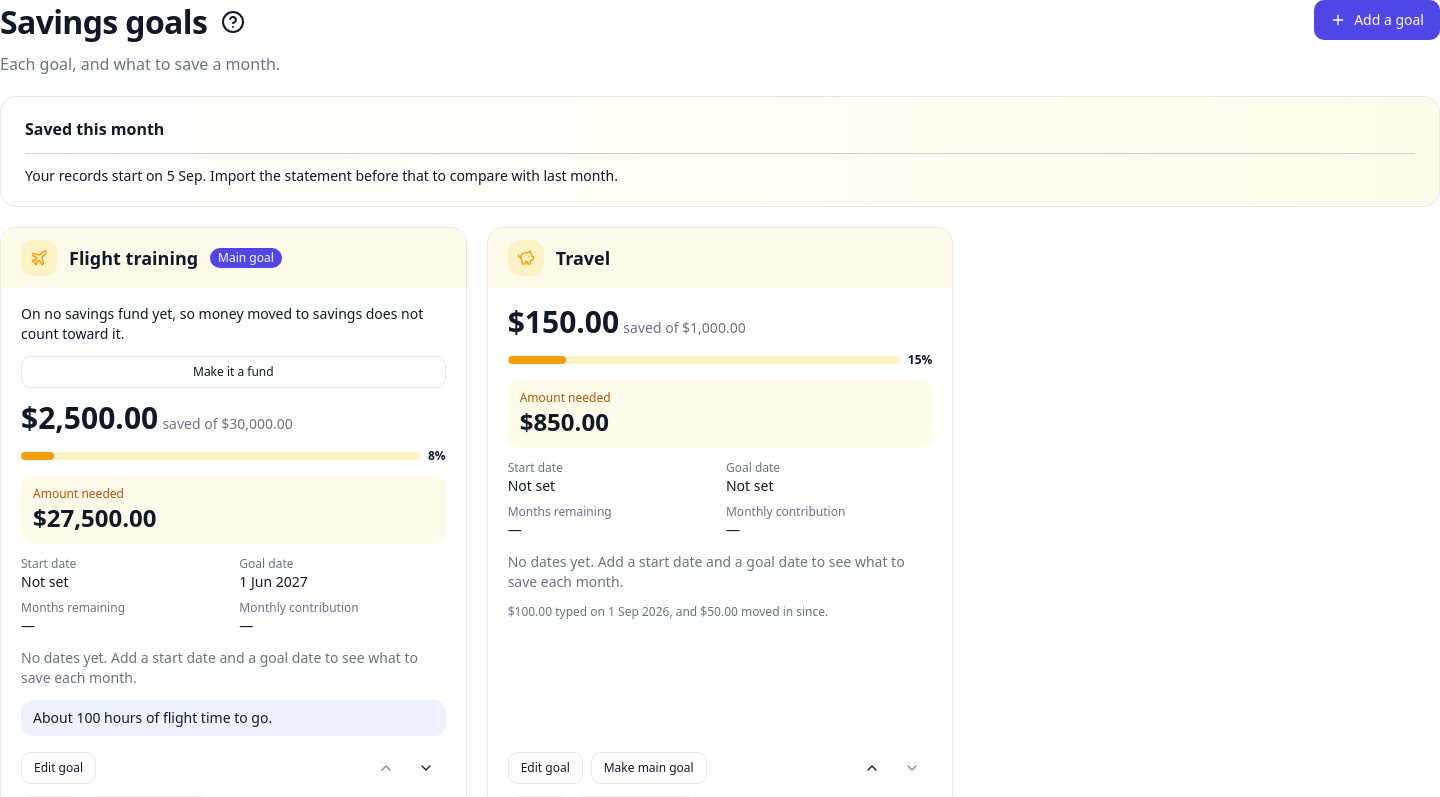
Test: SavingsScreen, setting and linking goals › refuses an amount it cannot read, and says why the database refused one
Click the button "Edit goal" below "$100.00" at (545, 768), box x1=508 y1=752 x2=583 y2=784
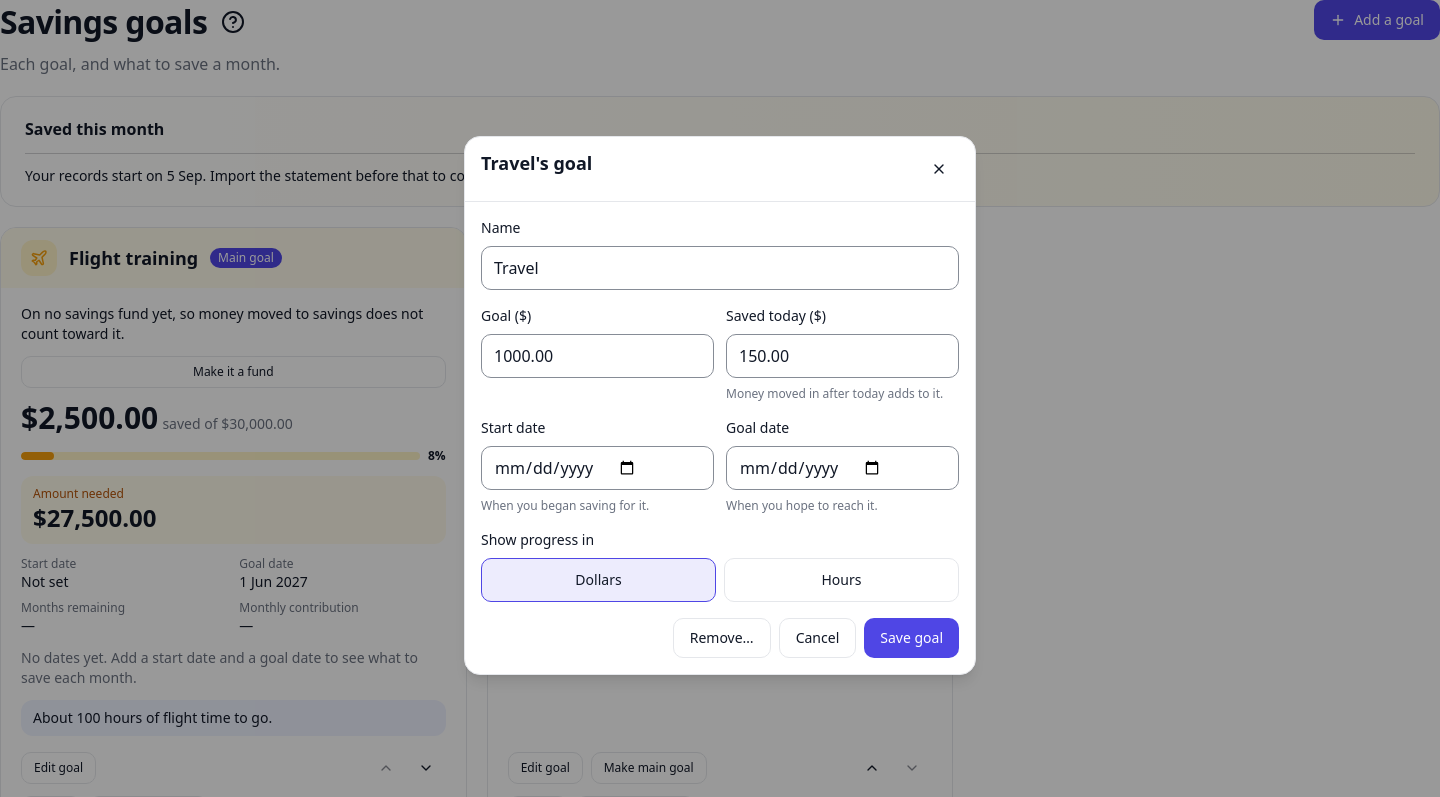
Replace the text in the field labelled "Goal ($)" with "0" at (598, 356), box x1=481 y1=334 x2=714 y2=378
Click the button "Save goal" at (912, 638), box x1=864 y1=618 x2=959 y2=658
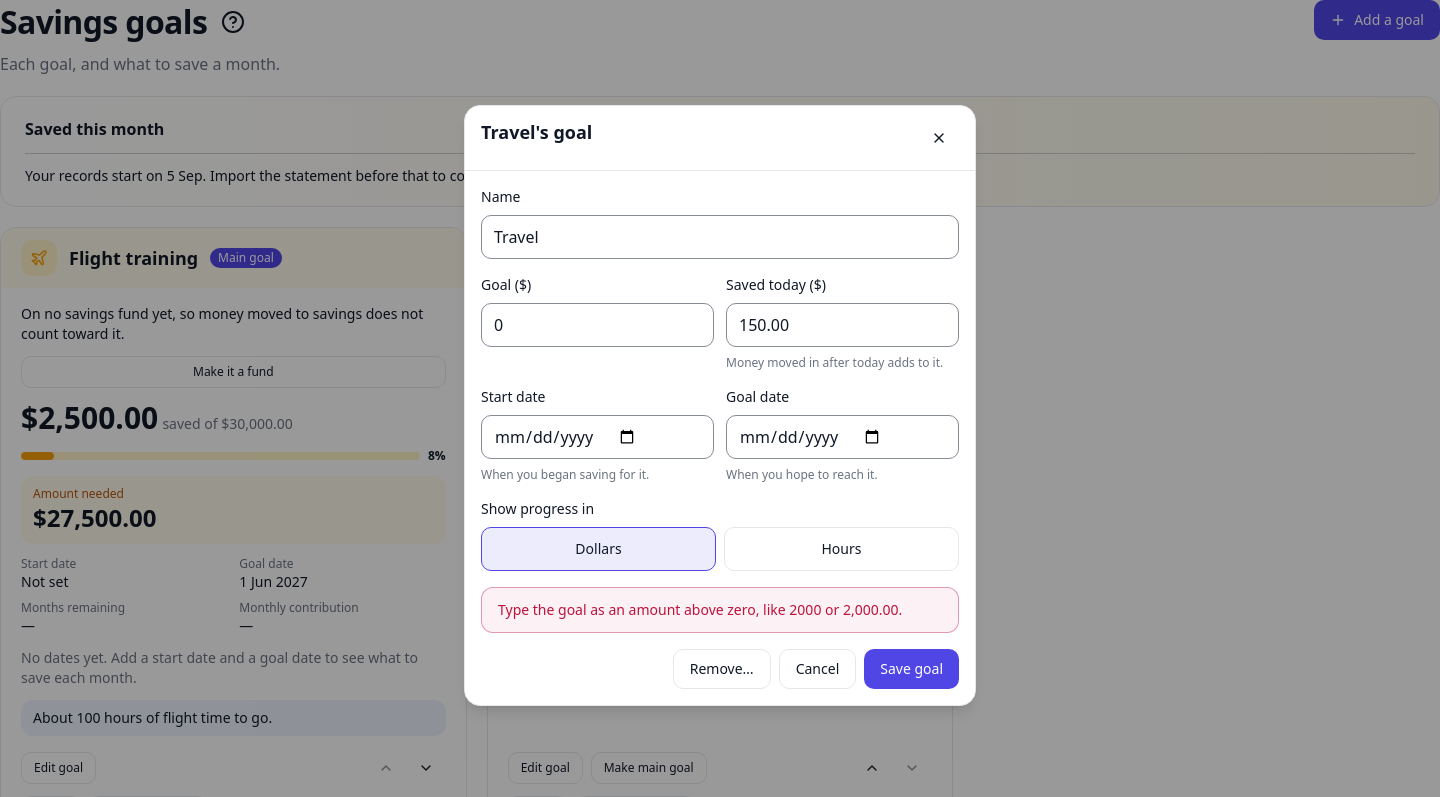
Expected: the text "Type the goal as an amount above zero, like 2000 or 2,000.00." is shown, x1=498 y1=600 x2=942 y2=620
Replace the text in the field labelled "Goal ($)" with "900" at (598, 324), box x1=481 y1=302 x2=714 y2=346
Replace the text in the field labelled "Saved today ($) Money moved in after today adds to it." with "lots" at (842, 324), box x1=726 y1=302 x2=959 y2=346
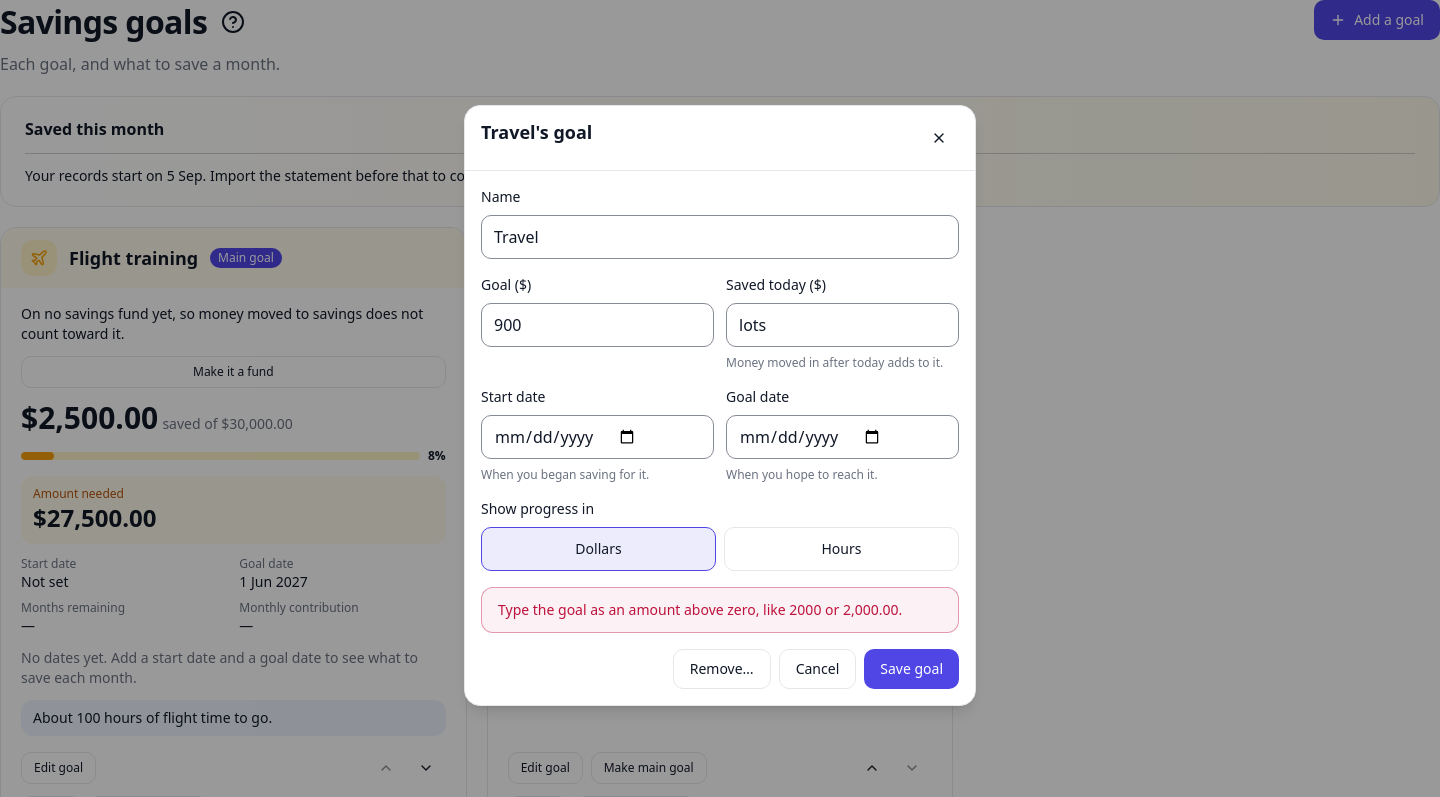
Click the button "Save goal" at (912, 668), box x1=864 y1=648 x2=959 y2=688
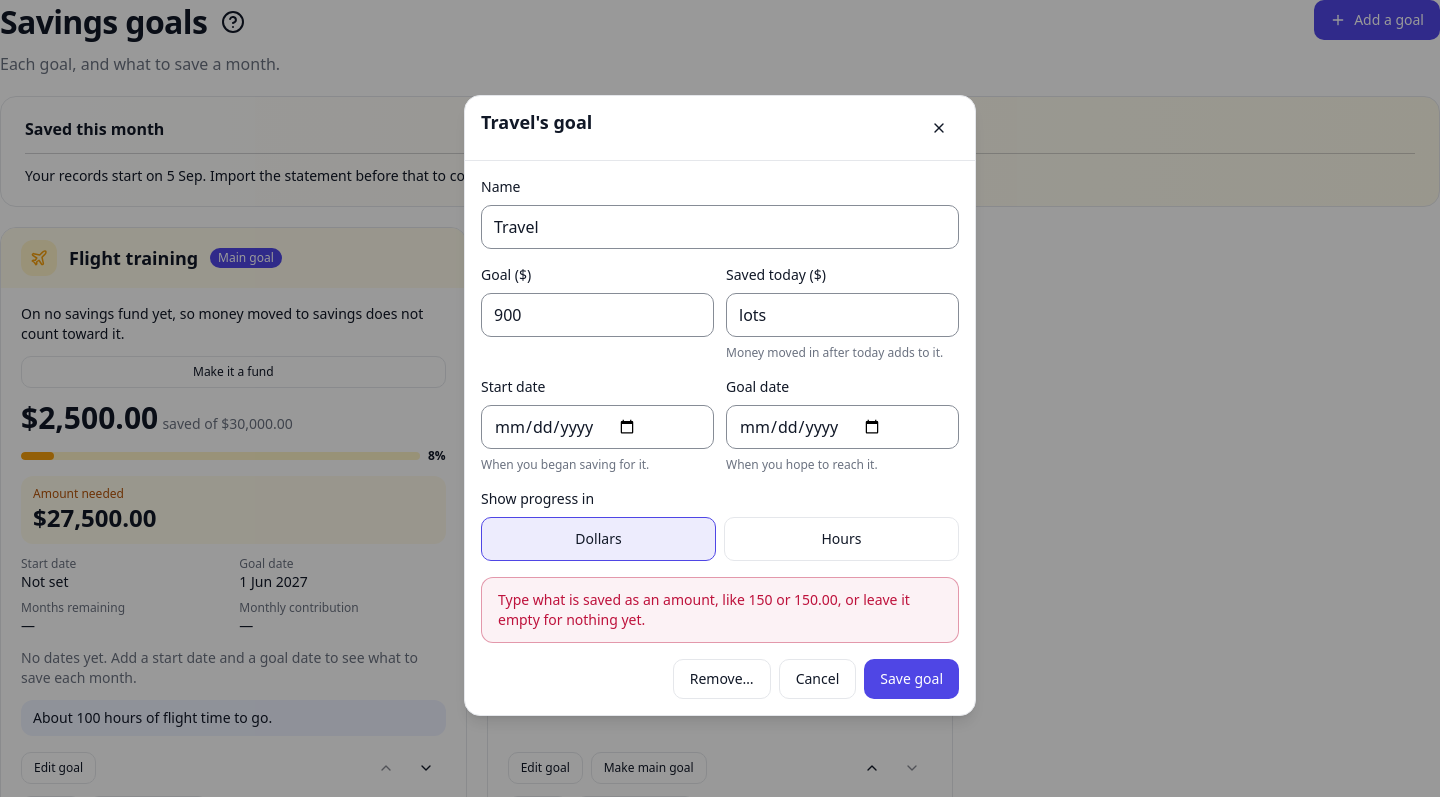
Expected: the text "Type what is saved as an amount" is shown, x1=498 y1=590 x2=910 y2=628
Clear the field labelled "Saved today ($) Money moved in after today adds to it." at (842, 314), box x1=726 y1=292 x2=959 y2=336
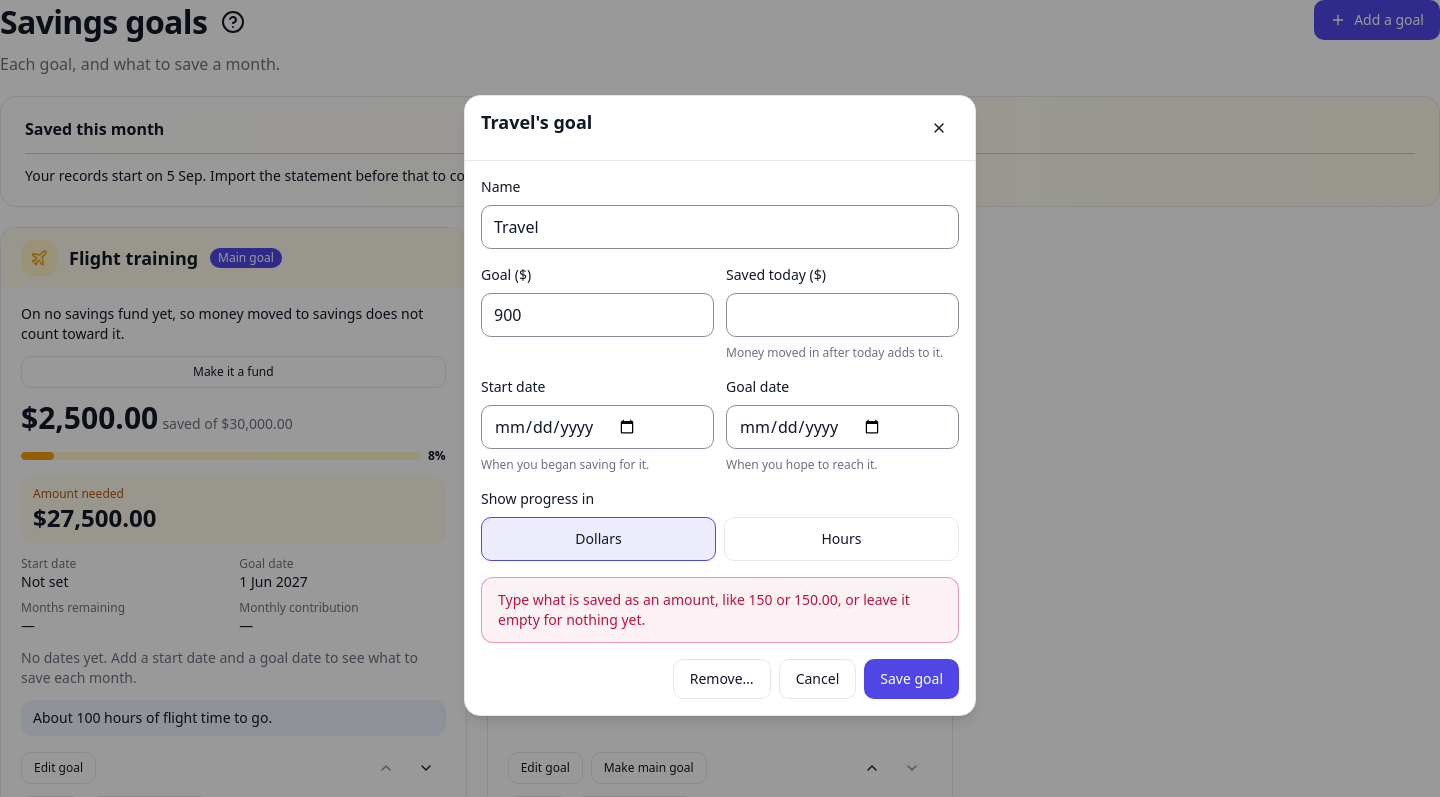
Click the button "Save goal" at (912, 678), box x1=864 y1=658 x2=959 y2=698
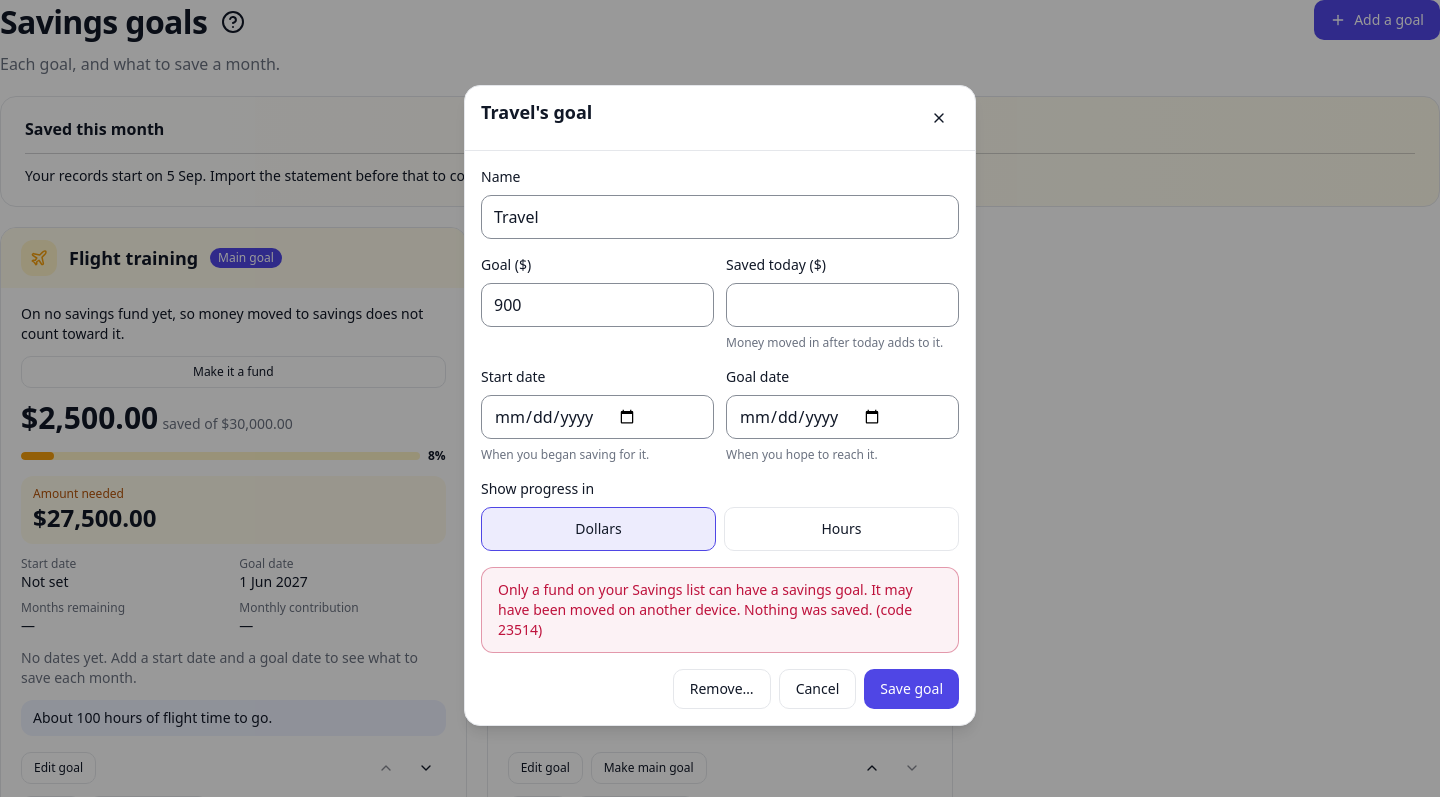
Expected: the text "Only a fund on your Savings list can have a savings goal." is shown, x1=498 y1=580 x2=913 y2=638
